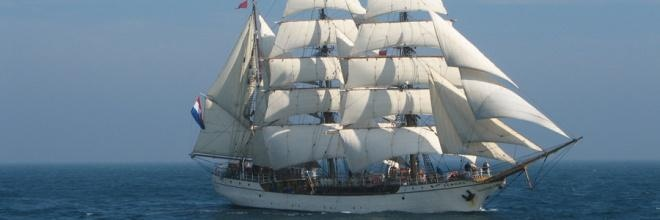fanchuan: (187, 1, 585, 214)
